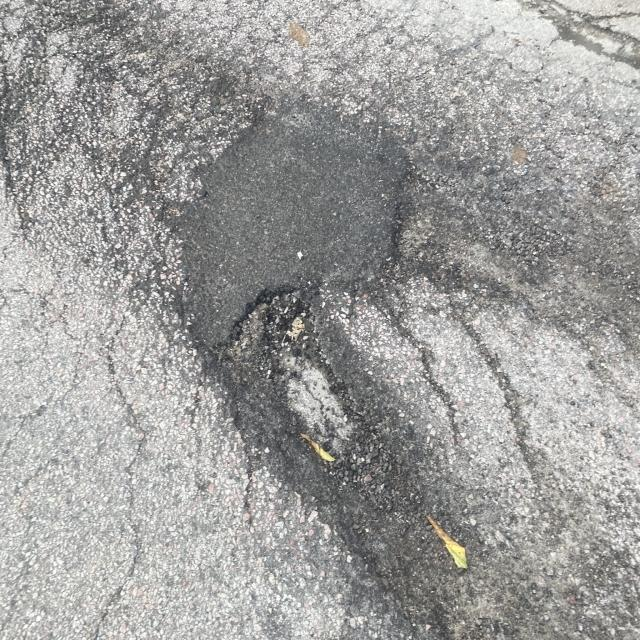pothole: (161, 80, 473, 466)
